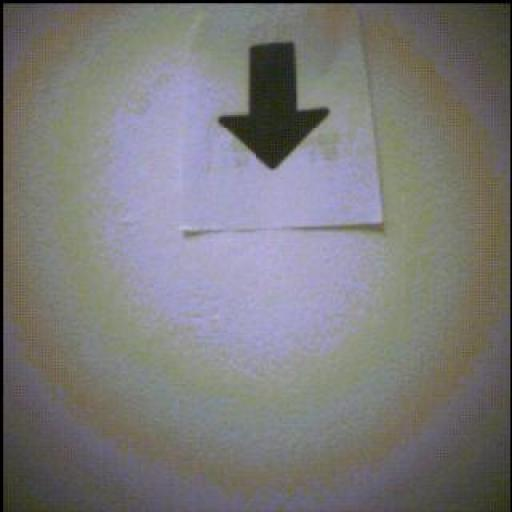arrow: (220, 44, 329, 171)
